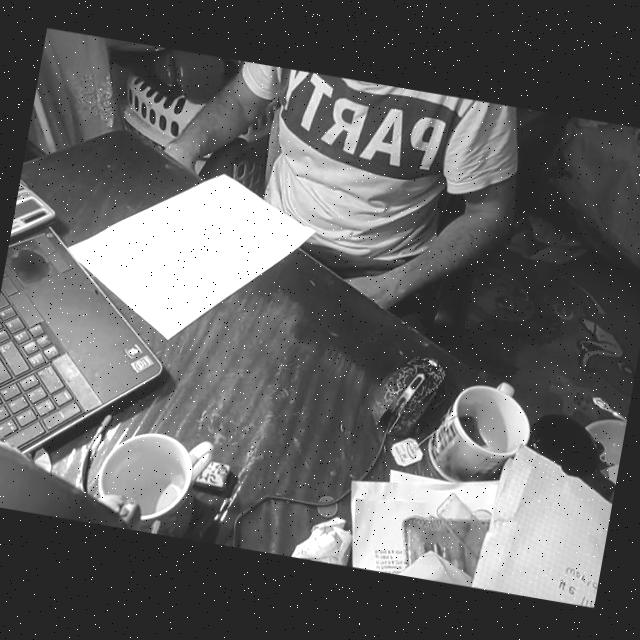document: (66, 174, 313, 340), (473, 447, 612, 607)
